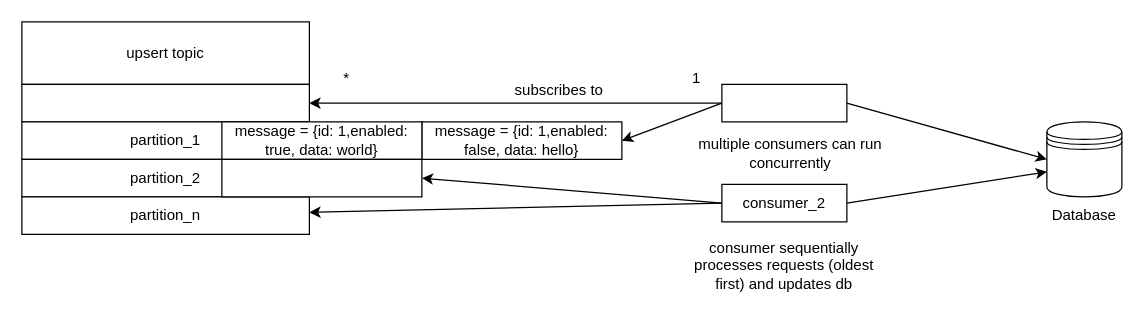
The diagram is 1144 pixels wide and 314 high, and some of its shapes have lost their labels. The centre of each missing label's shape, as x and y in pixels:
consumer_1: [784,102]
message = {id: 5, enabled: fale, data: hello}: [321,177]
partition_0: [165,102]
